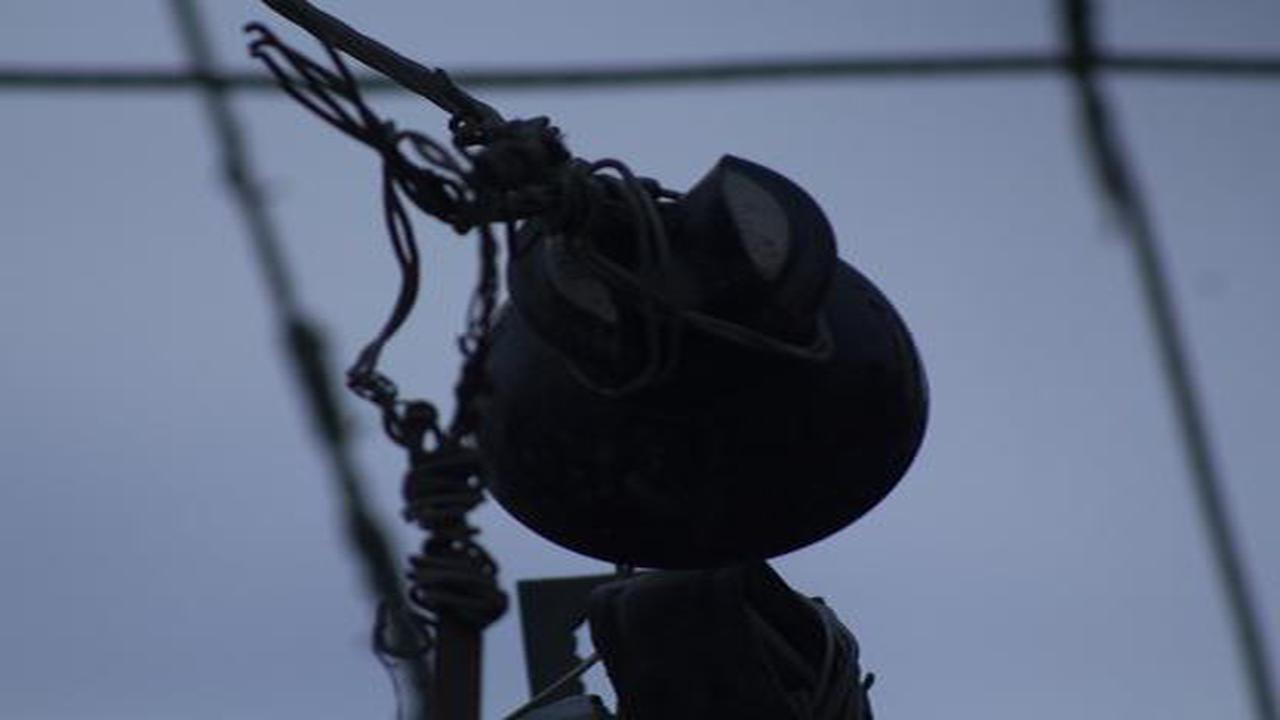insulator_pin: (462, 142, 956, 574)
